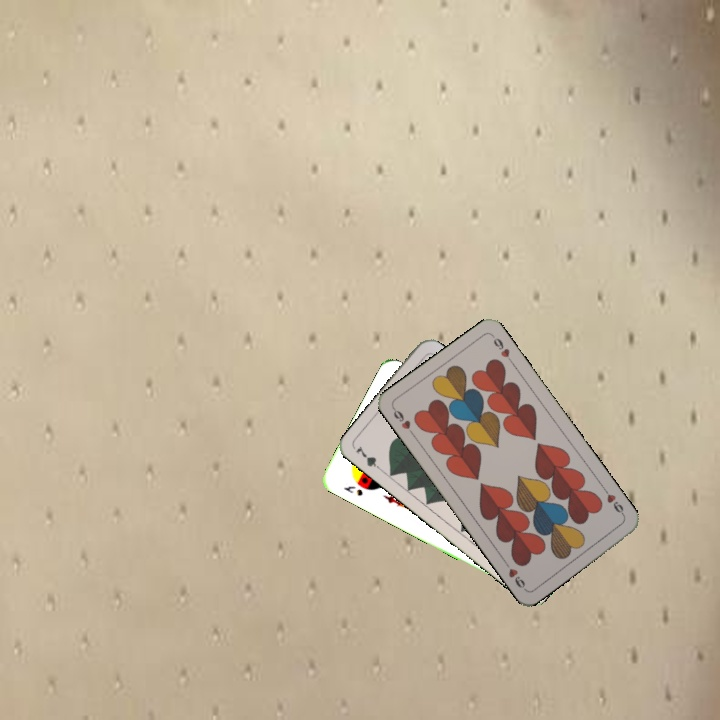G7: (352, 442, 386, 474)
H9: (599, 484, 628, 519), (389, 404, 417, 439)
SK: (340, 482, 366, 499)
